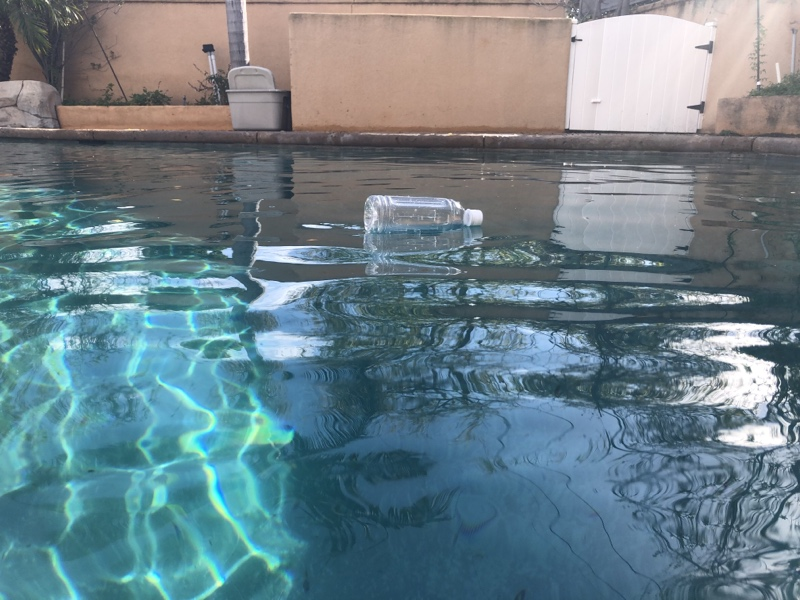Plastic Bottle: (358, 191, 486, 239)
